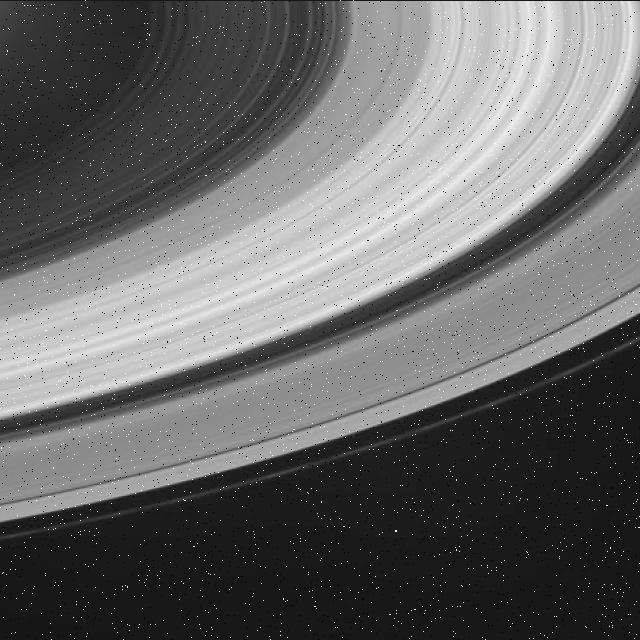Saturn: (0, 1, 640, 550)
